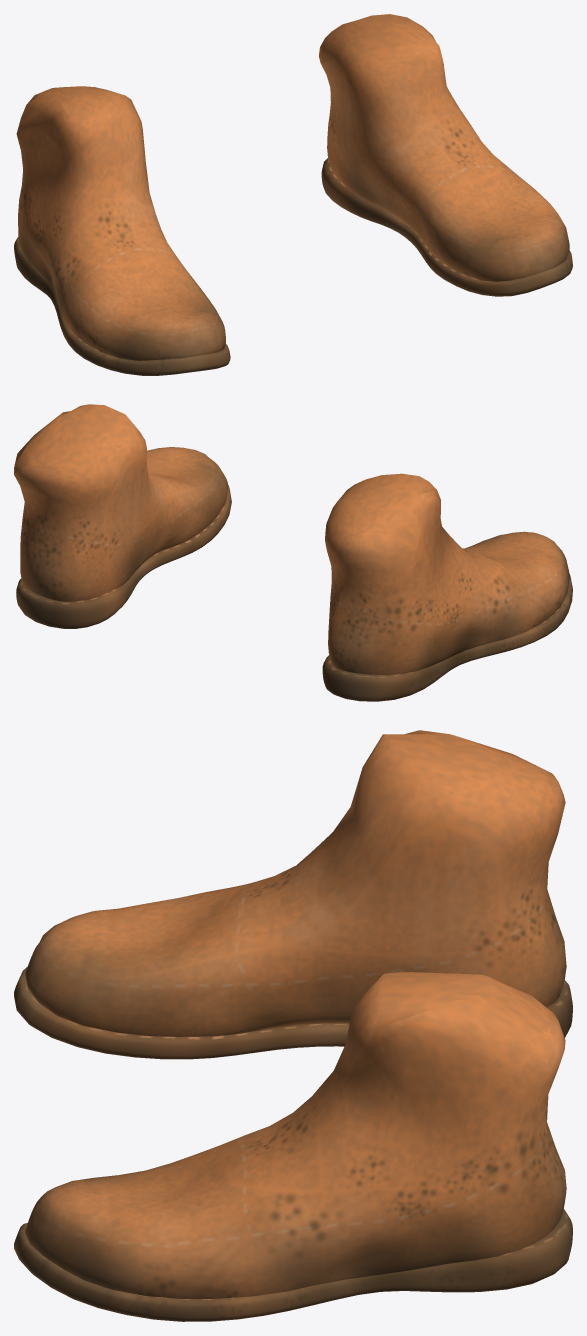
The model's file is medival shoes.fbx.
3 views of the same model, one above another, from view 1: azimuth 30°, elevation 25°; view 2: azimuth 150°, elevation 25°; view 3: azimuth 270°, elevation 25° (orthographic). The views are drawn at different scales.
Parts seen in each view (by area): view 1: Shoes; view 2: Shoes; view 3: Shoes.
Boxes of the visible parts, x1,y1,x2,y2 form: Shoes: (14, 14, 572, 375); Shoes: (14, 404, 572, 701); Shoes: (14, 730, 572, 1321).
Size of the model in its own units: 43.46 by 16.68 by 28.77.
